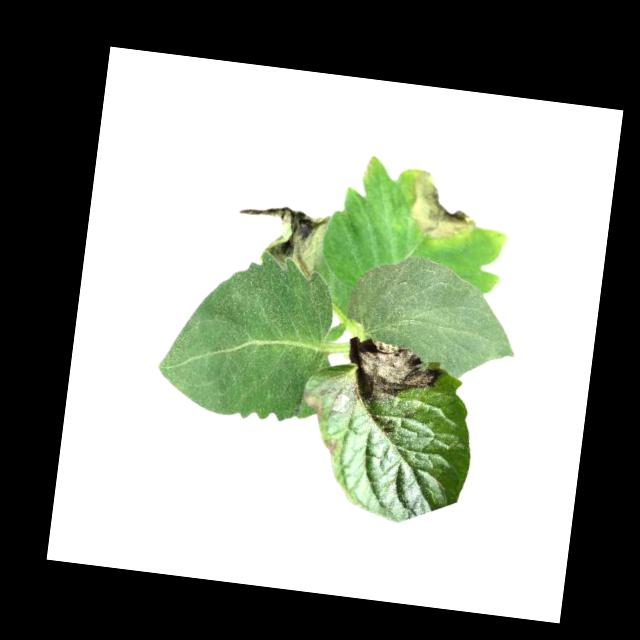Late_blight: (339, 335, 446, 413), (231, 196, 331, 279), (398, 165, 481, 248), (298, 386, 325, 421), (319, 433, 337, 452)
healthy: (152, 240, 344, 428), (339, 248, 526, 387)
